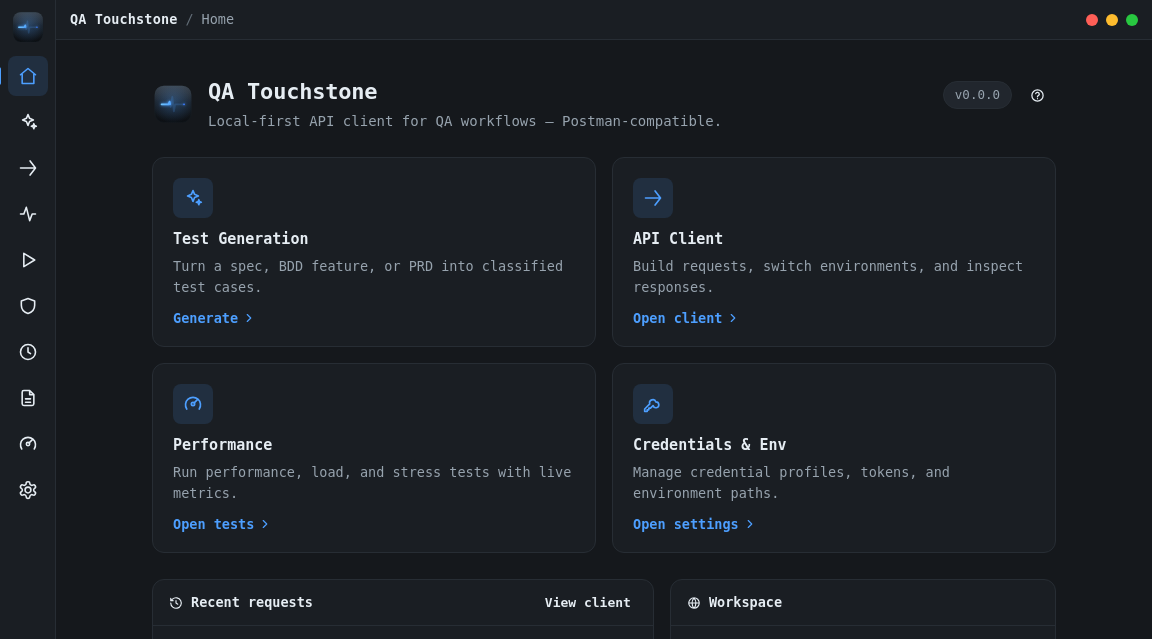
Scenario: App (redesign shell) › sends a request and renders the response (canned fallback)
What coordinates should you click on to do the following:
click the button named "API Client"
I would click on:
 (28, 168)
Its box is [8,148,48,188].
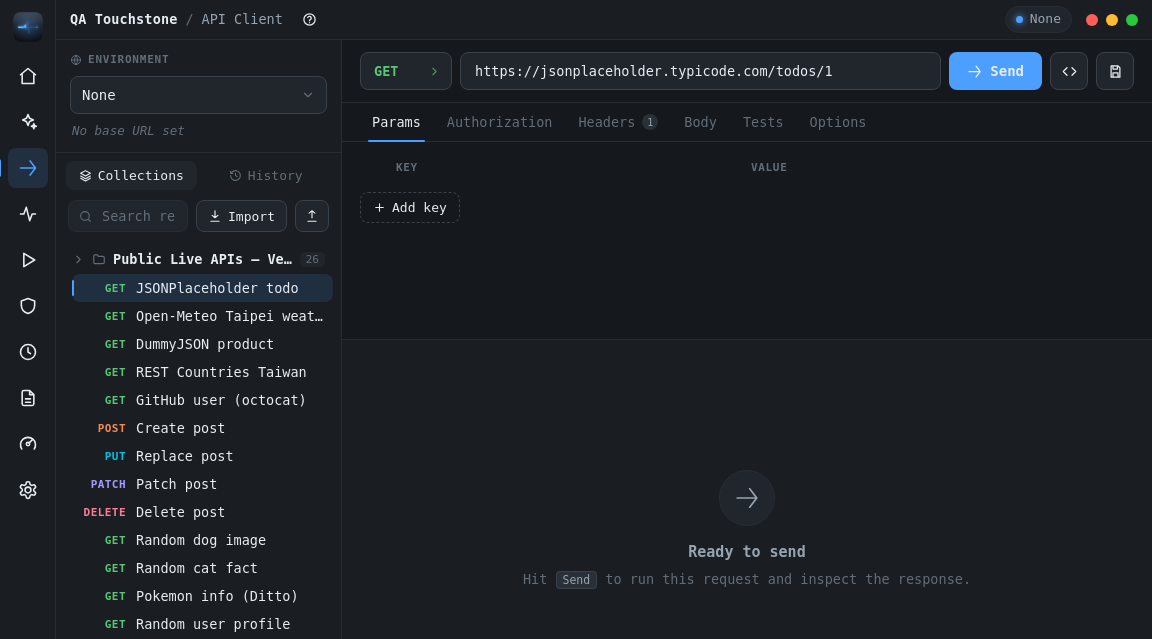
What coordinates should you click on to do the following:
click the button "Send"
I would click on:
 (996, 71)
Its box is [949,52,1042,90].
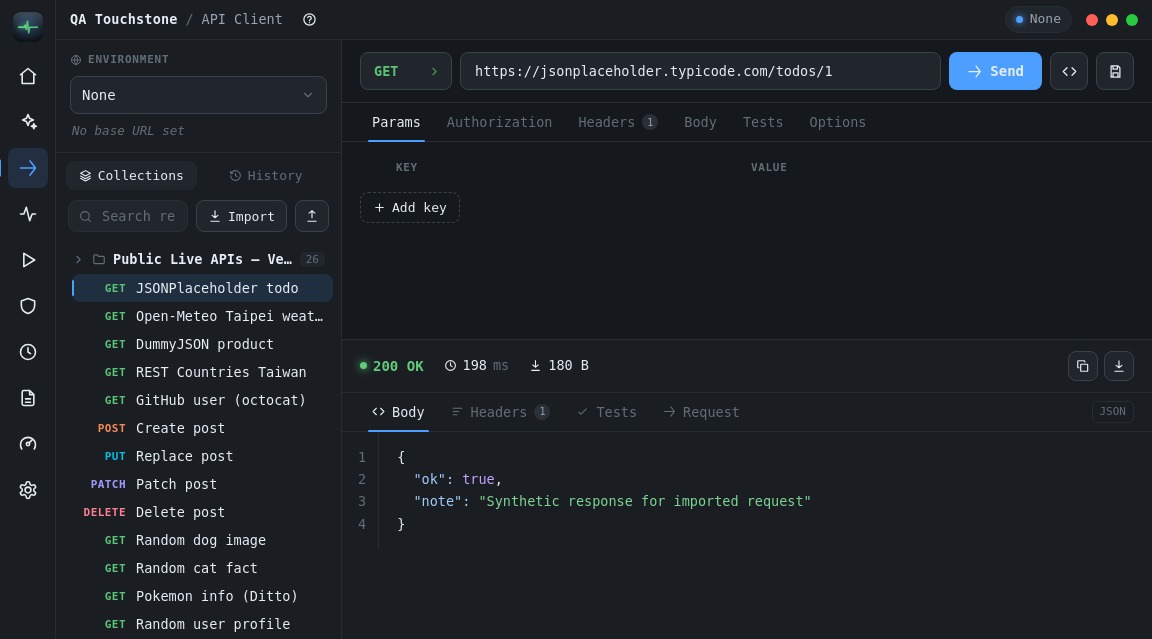
Now the text "200 OK" is shown, box [360,356,424,376]
